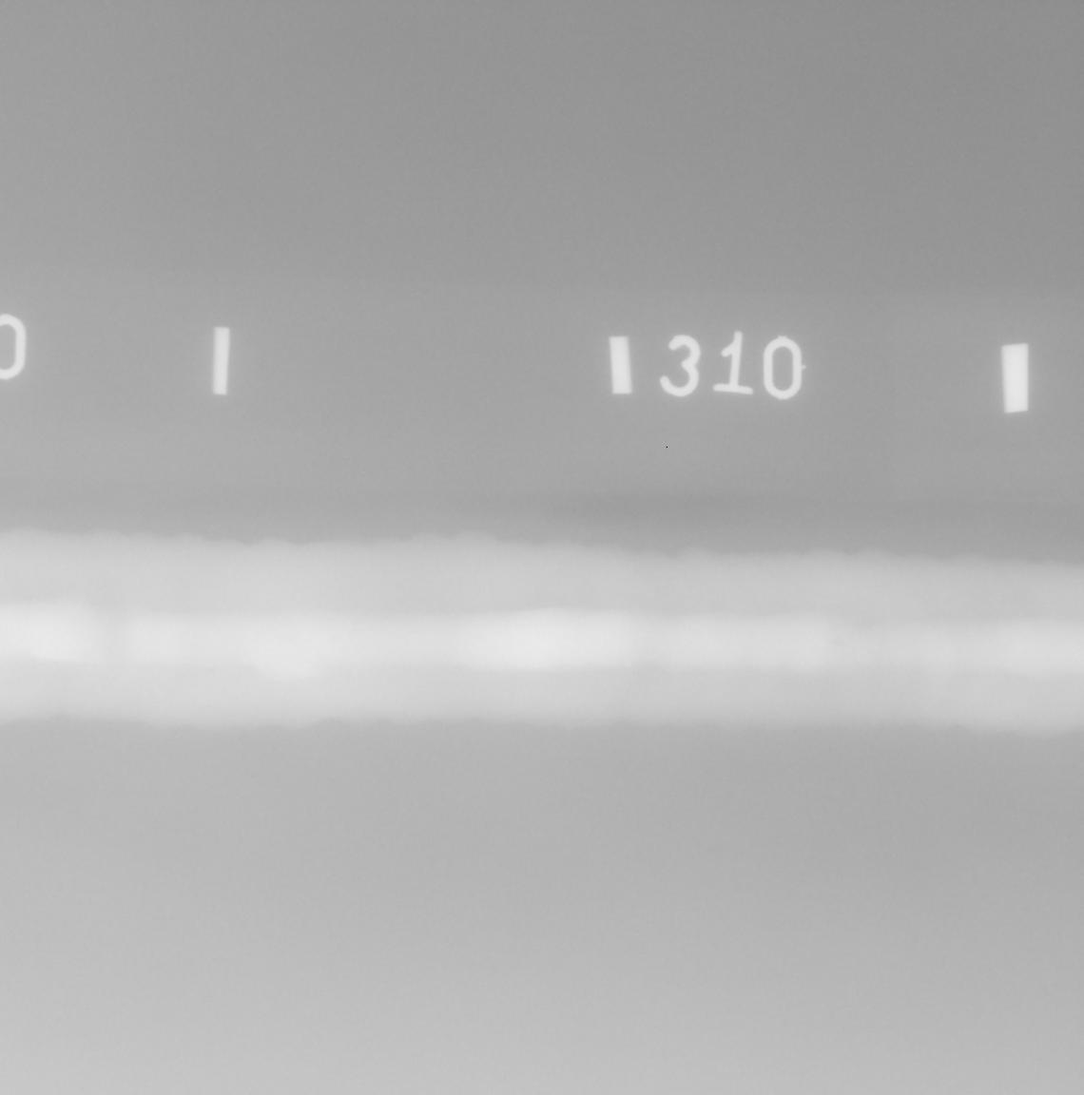Inclusion: (289, 638, 295, 642)
Pore/Porosity: (832, 640, 844, 646)
